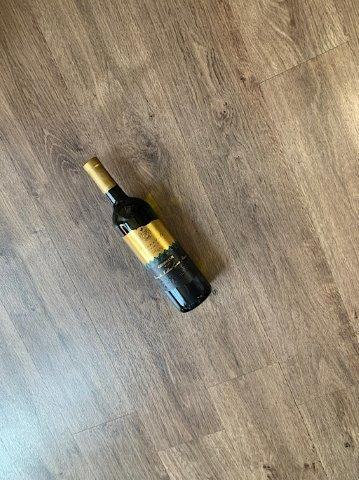botolkaca: (82, 157, 213, 313)
